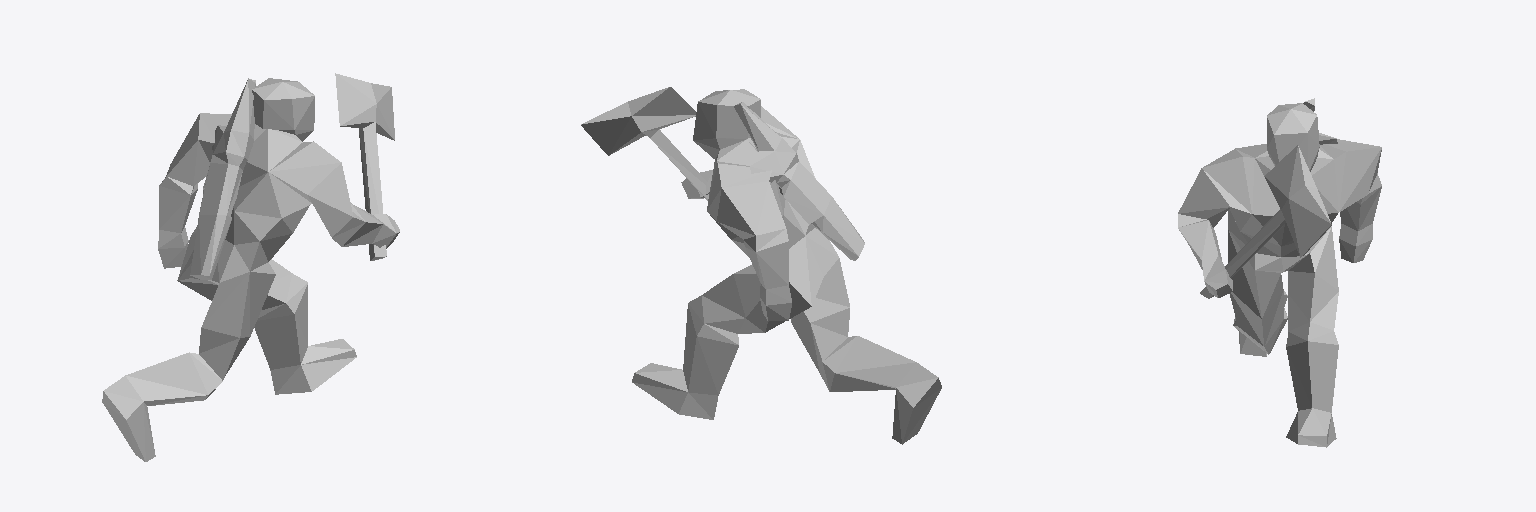
Rendered from player.obj.
3 views of the same model, side by side, from view 1: azimuth 30°, elevation 25°; view 2: azimuth 150°, elevation 25°; view 3: azimuth 270°, elevation 25° (orthographic).
Visible parts, largest first — view 1: player; view 2: player; view 3: player.
Part boxes in pixels (x1,y1,x2,y2): player: (102, 73, 399, 461); player: (581, 87, 941, 444); player: (1178, 98, 1381, 447).
Size of the model in its own units: 5.09 by 4.88 by 2.79.